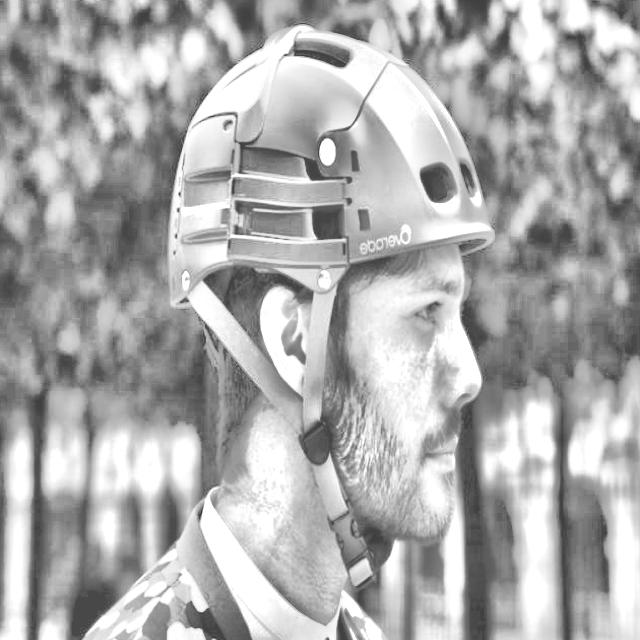Helmet: (156, 10, 501, 608)
